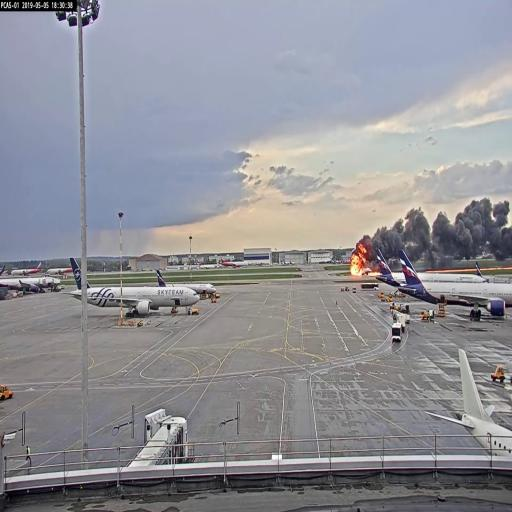fire: (350, 243, 365, 275)
smoke: (459, 200, 512, 252), (429, 206, 458, 254), (373, 221, 403, 264), (404, 204, 426, 253)
